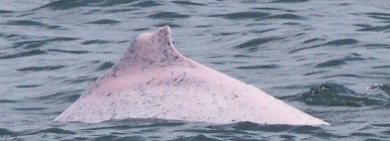fin: (52, 22, 341, 132)
